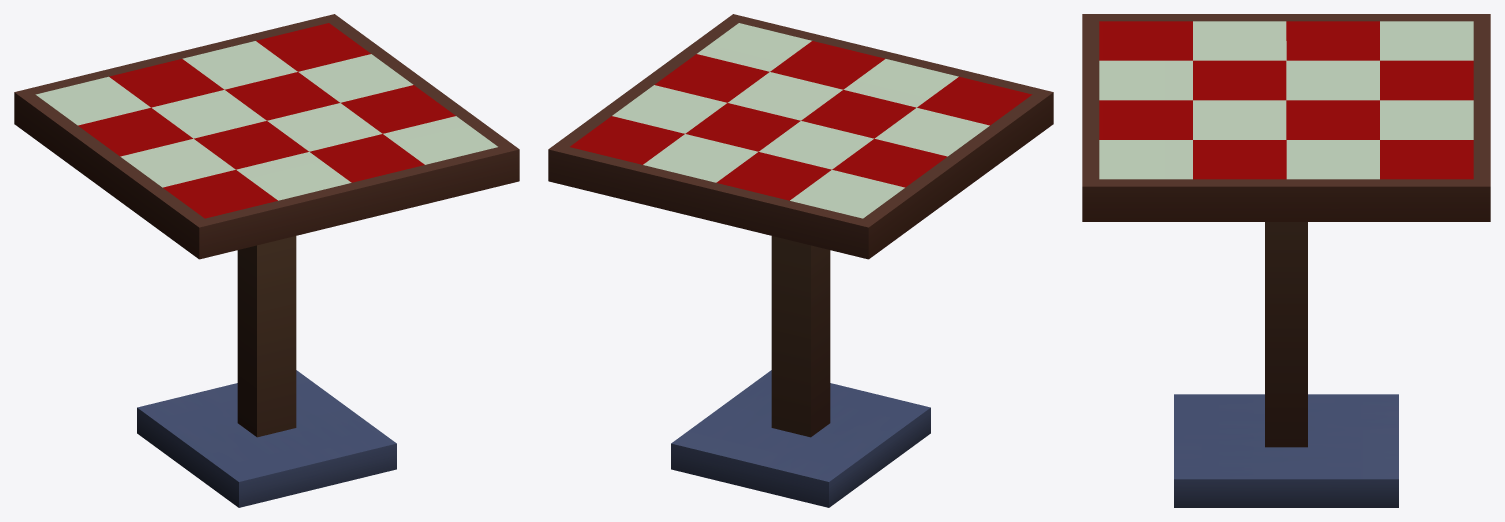
Rendered from Table_03A.fbx.
3 renders of one model, left to right at view 1: azimuth 30°, elevation 25°; view 2: azimuth 150°, elevation 25°; view 3: azimuth 270°, elevation 25°, orthographic. The views are drawn at different scales.
Visible parts, largest first — view 1: Table_03A; view 2: Table_03A; view 3: Table_03A.
Boxes of the visible parts, x1,y1,x2,y2 form: Table_03A: (14, 14, 519, 507); Table_03A: (548, 14, 1053, 507); Table_03A: (1082, 14, 1490, 507).
Bounding box in the file's own units: 98.12 × 96.74 × 98.12.
Materials: 3 (3 with a texture image).
